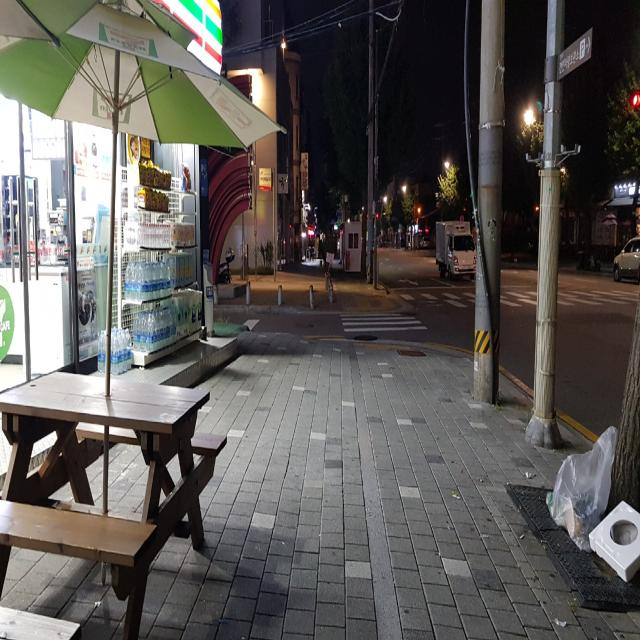횡단보도: (398, 290, 640, 306), (339, 312, 428, 332)
